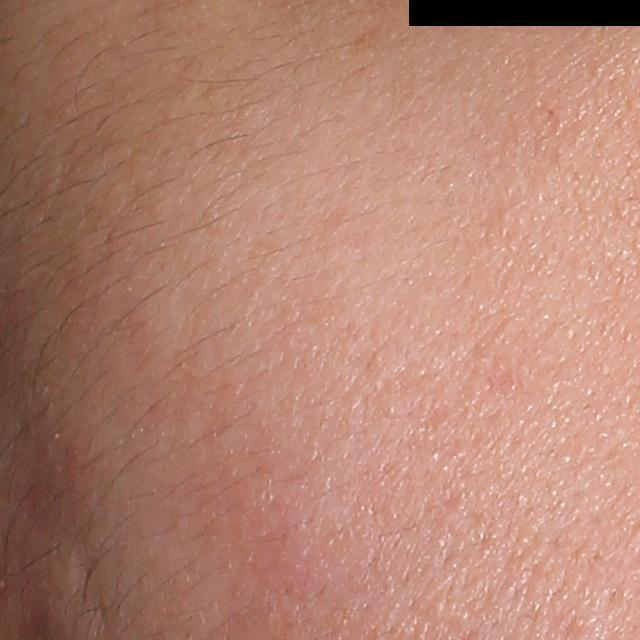melasma: (352, 22, 387, 53)
